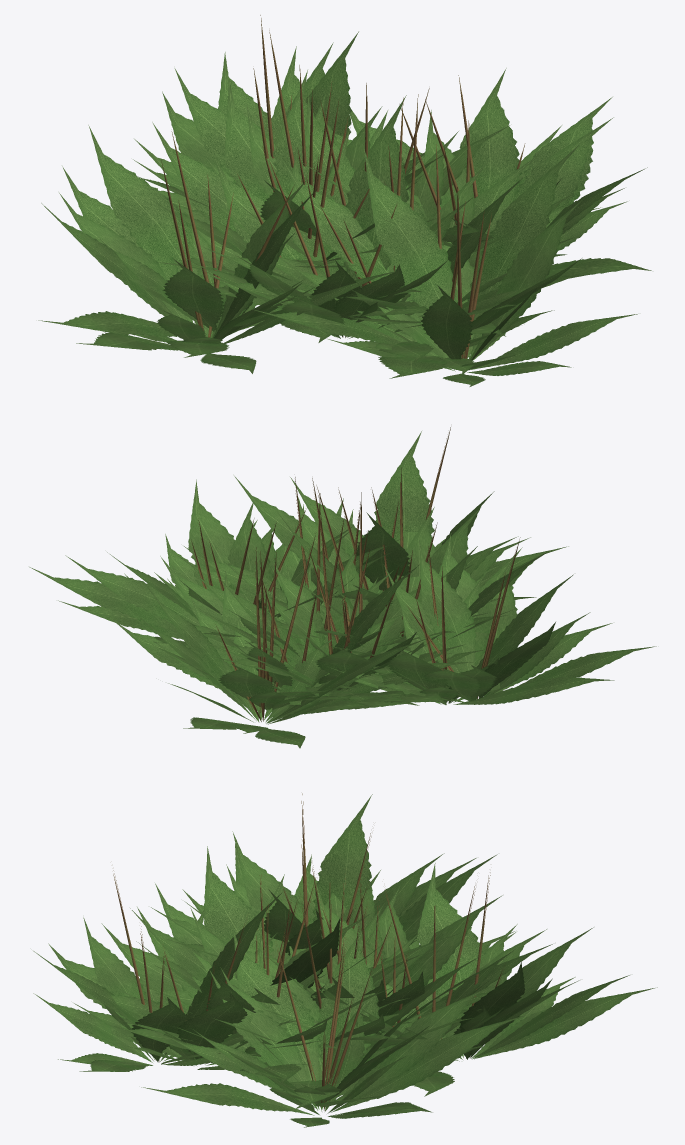
The model's file is WEED_01_Broadleaf_Rosette.glb.
3 views of the same model, one above another, from view 1: azimuth 30°, elevation 25°; view 2: azimuth 150°, elevation 25°; view 3: azimuth 270°, elevation 25° (orthographic). The views are drawn at different scales.
Visible parts, largest first — view 1: WEED_01_Broadleaf_Rosette__FoliageCards, WEED_01_Broadleaf_Rosette__WoodyStems; view 2: WEED_01_Broadleaf_Rosette__FoliageCards, WEED_01_Broadleaf_Rosette__WoodyStems; view 3: WEED_01_Broadleaf_Rosette__FoliageCards, WEED_01_Broadleaf_Rosette__WoodyStems.
Boxes of the visible parts, bbox=[...] form: WEED_01_Broadleaf_Rosette__FoliageCards: bbox=[38, 31, 651, 386]; WEED_01_Broadleaf_Rosette__WoodyStems: bbox=[161, 15, 525, 358]; WEED_01_Broadleaf_Rosette__FoliageCards: bbox=[29, 431, 656, 748]; WEED_01_Broadleaf_Rosette__WoodyStems: bbox=[191, 427, 520, 721]; WEED_01_Broadleaf_Rosette__FoliageCards: bbox=[33, 794, 657, 1127]; WEED_01_Broadleaf_Rosette__WoodyStems: bbox=[113, 793, 504, 1110].
Bounding box in the file's own units: 0.9648 × 0.304 × 0.9083.
Materials: 1 (1 with a texture image).
